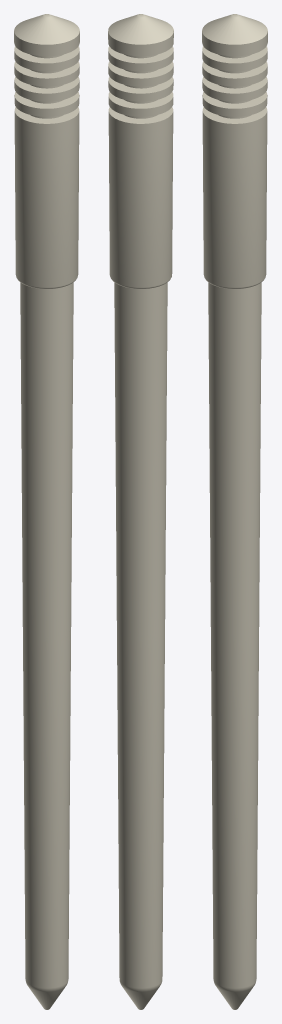
The model's file is needleJet.glb.
3 views of the same model, side by side, from view 1: azimuth 90°, elevation 25°; view 2: azimuth 150°, elevation 25°; view 3: azimuth 270°, elevation 25° (orthographic).
Parts seen in each view (by area): view 1: needleJet; view 2: needleJet; view 3: needleJet.
Boxes of the visible parts, left/top/right/bottom form: needleJet: left=14, top=14, right=79, bottom=1009; needleJet: left=108, top=14, right=173, bottom=1009; needleJet: left=202, top=14, right=267, bottom=1009.
Bounding box in the file's own units: 0.0755 × 1.26 × 0.0755.
Materials: 1 (1 with a texture image).
